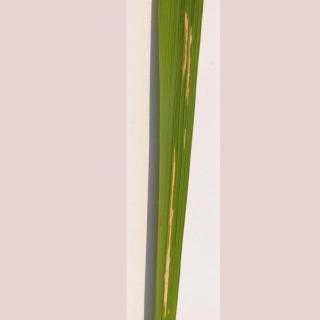Hawar-Daun: (154, 157, 186, 318), (170, 13, 199, 120)
